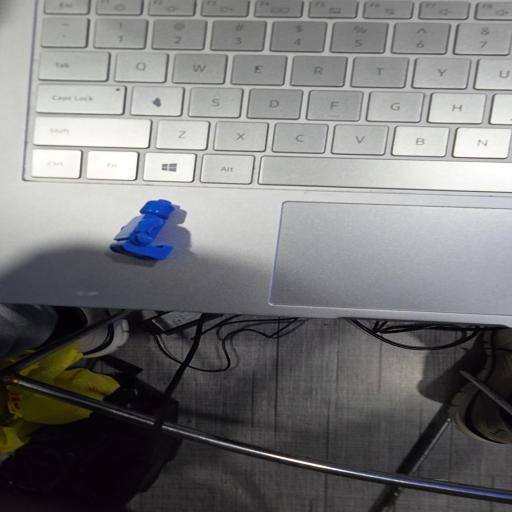Blue: (110, 200, 175, 260)
